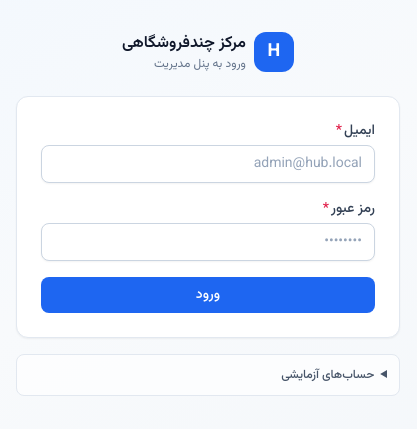
Scenario: Login page › shows an invalid-credentials message on 401
Type "x@y.z" into the field labelled "ایمیل*" at (208, 164), box [41, 145, 375, 183]
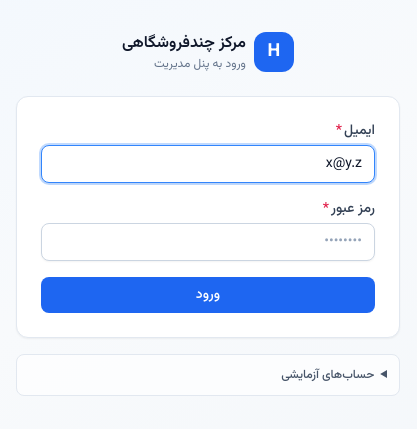
Type "wrongpwd" into the password field labelled "رمز عبور*" at (208, 242), box [41, 223, 375, 261]
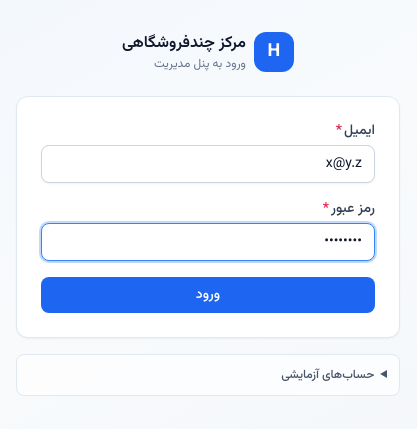
Click the button "ورود" at (208, 295), box [41, 277, 375, 313]
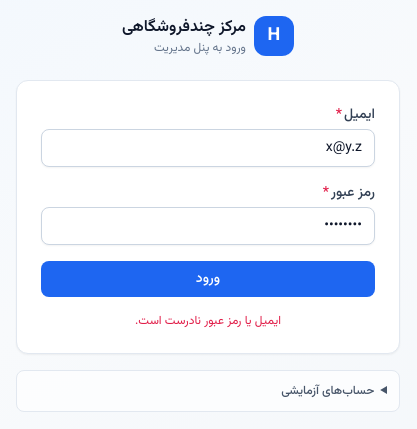
Check: the text "ایمیل یا رمز عبور نادرست است." is shown, box [135, 312, 281, 330]
